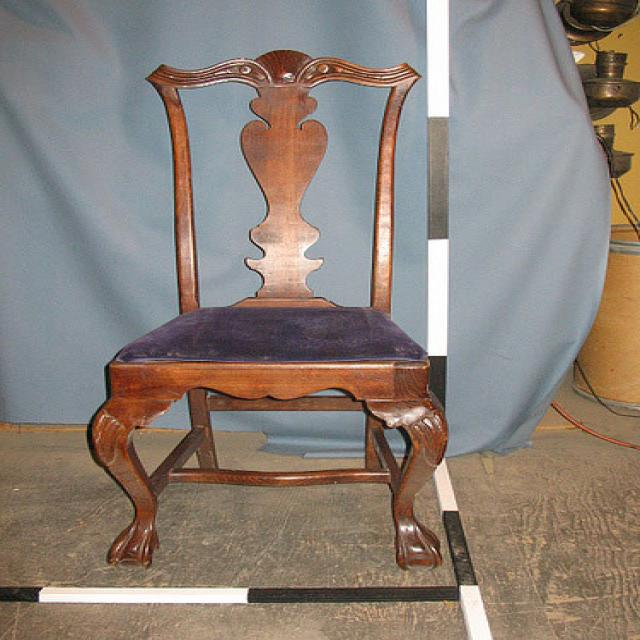chair: (88, 47, 449, 566)
